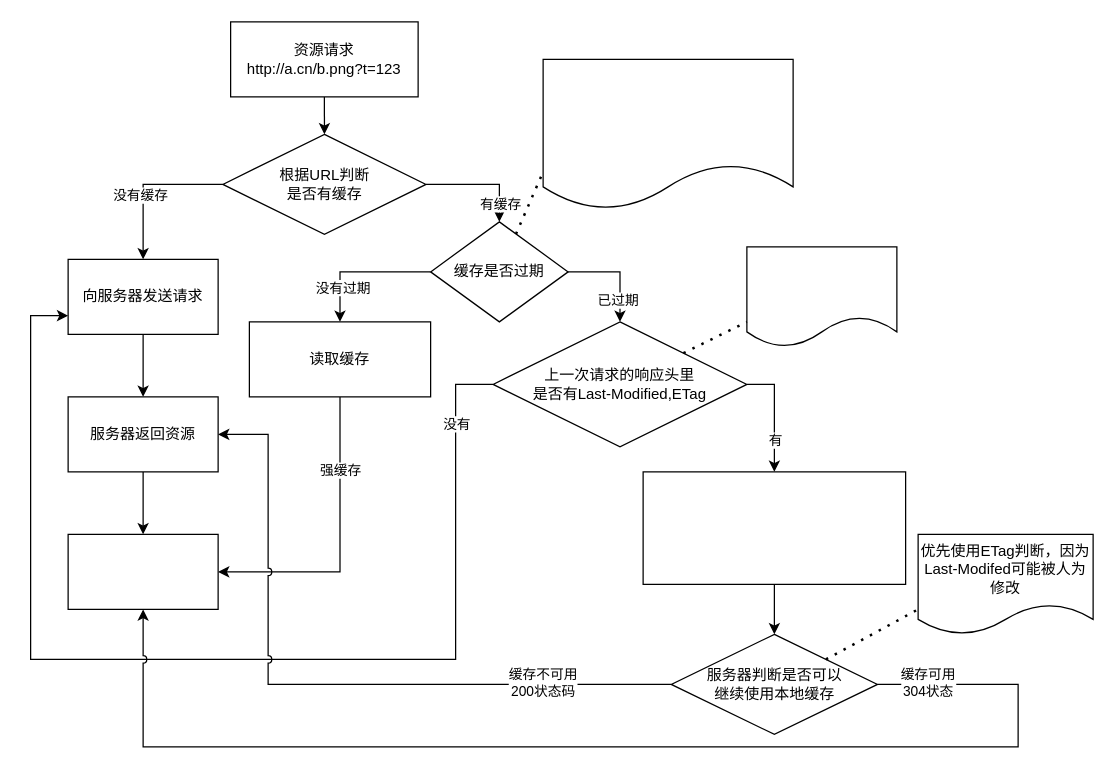
The diagram is 1115 pixels wide and 779 high, and some of its shapes have lost their labels. The centre of each missing label's shape, as x and y in pixels:
Last-Modified是一个精确到秒的时间，ETag是文件唯一标识: [821,296]
向服务器发送请求，请求头里带着 上一次相应头里的Last-Modified,ETag: [774,527]
如果上一次请求，服务器返回的响应头里有Cache-Control: max-age=300(秒)，则表示走强缓存。: [667,133]
渲染页面: [142,571]
